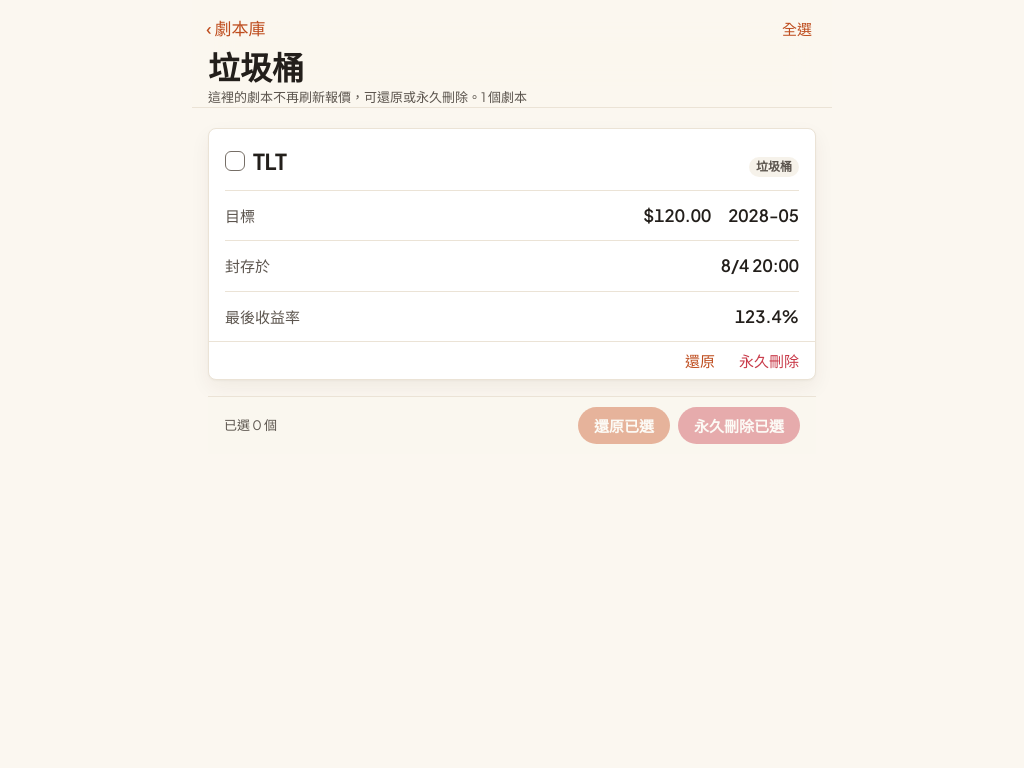
Test case: 單筆永久刪除與二次確認（TR4／#92） › 取消確認畫面：不呼叫刪除、劇本還在垃圾桶清單上
The image size is (1024, 768).
Expected: the text "TLT" is shown, 253,145 -> 287,178
Click the button with aria-label "永久刪除 TLT 2028-05" at (769, 361), box 735,342 -> 803,379
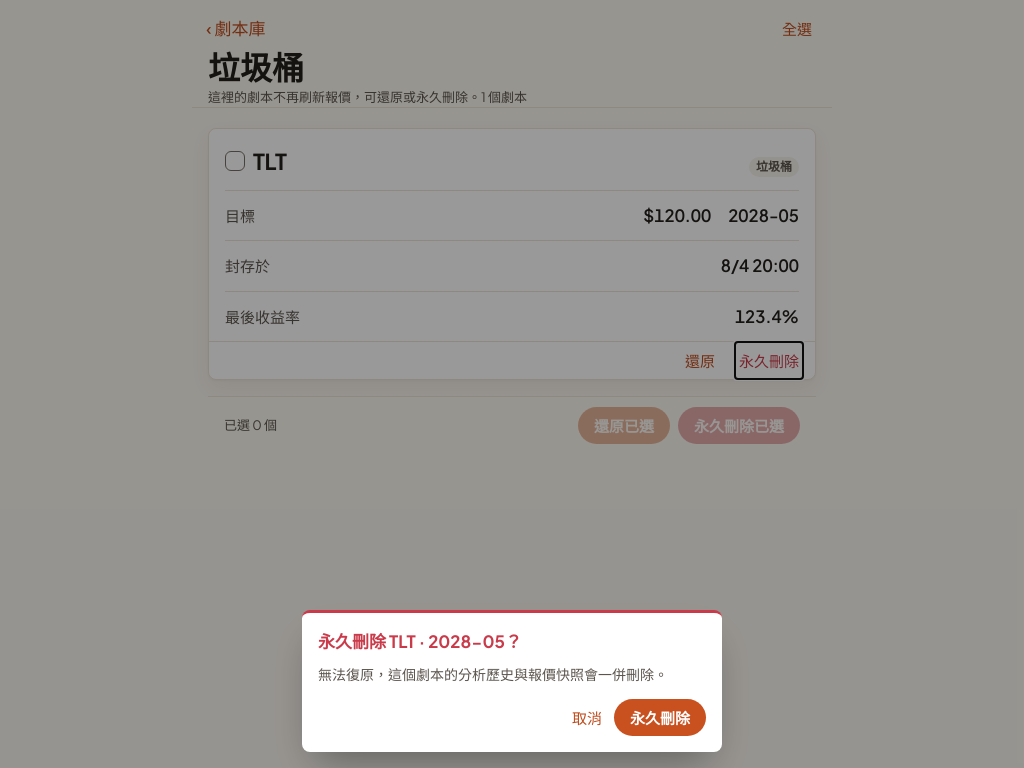
Expected: the dialog is shown, 302,610 -> 722,752
Click the button "取消" at (587, 718), box 568,699 -> 606,736
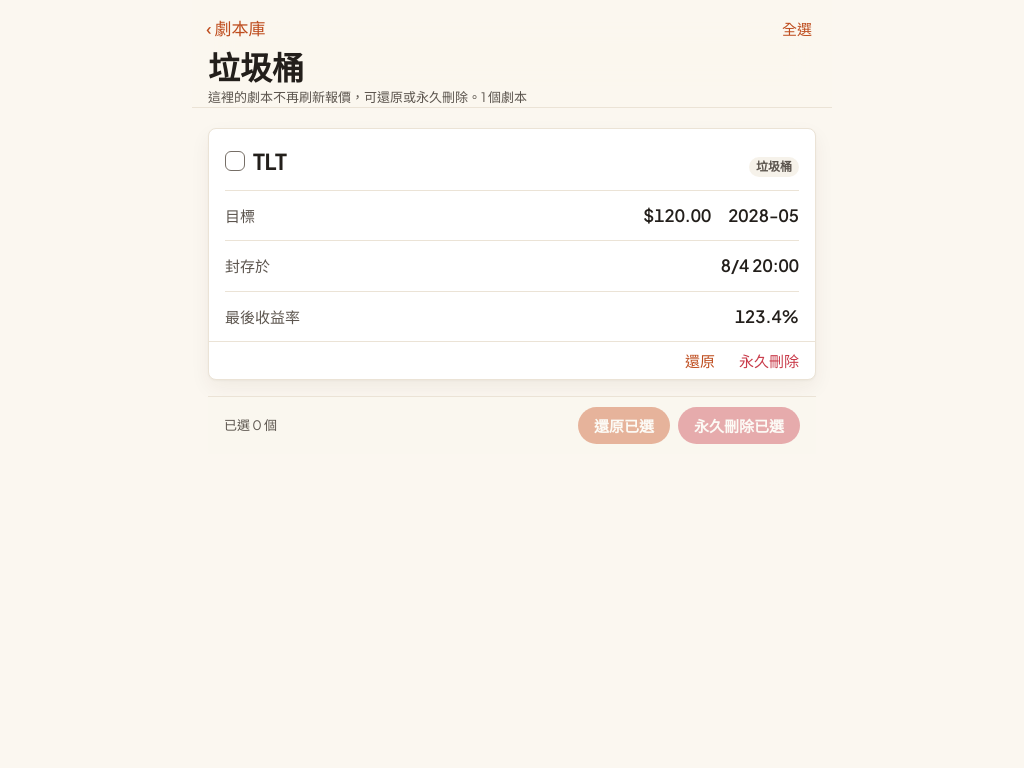
Expected: the text "TLT" is shown, 253,145 -> 287,178
Expected: the dialog is gone
